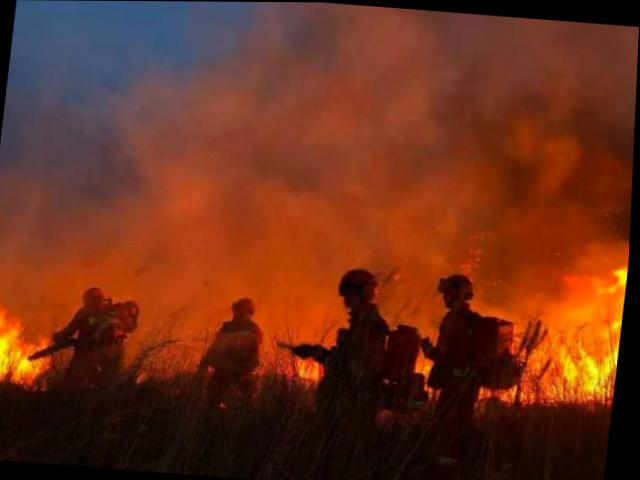fire: (536, 256, 630, 402), (0, 297, 67, 399), (297, 351, 331, 381)
